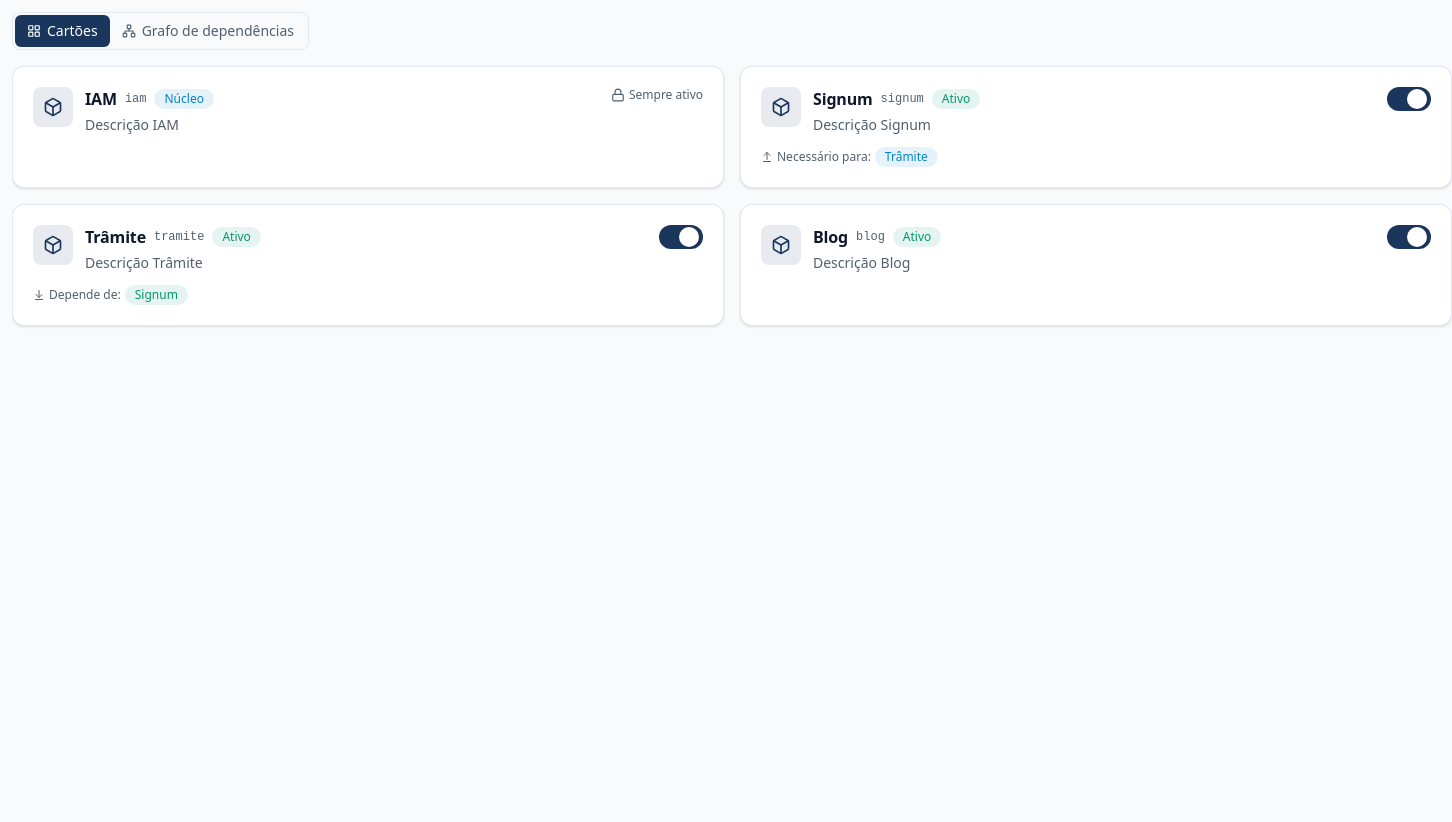
Scenario: Configurações > Módulos › erro 409 do backend vira aviso e a lista é recarregada
Click the switch named "Desativar Blog". click: (1409, 237)
box: [1387, 225, 1431, 249]
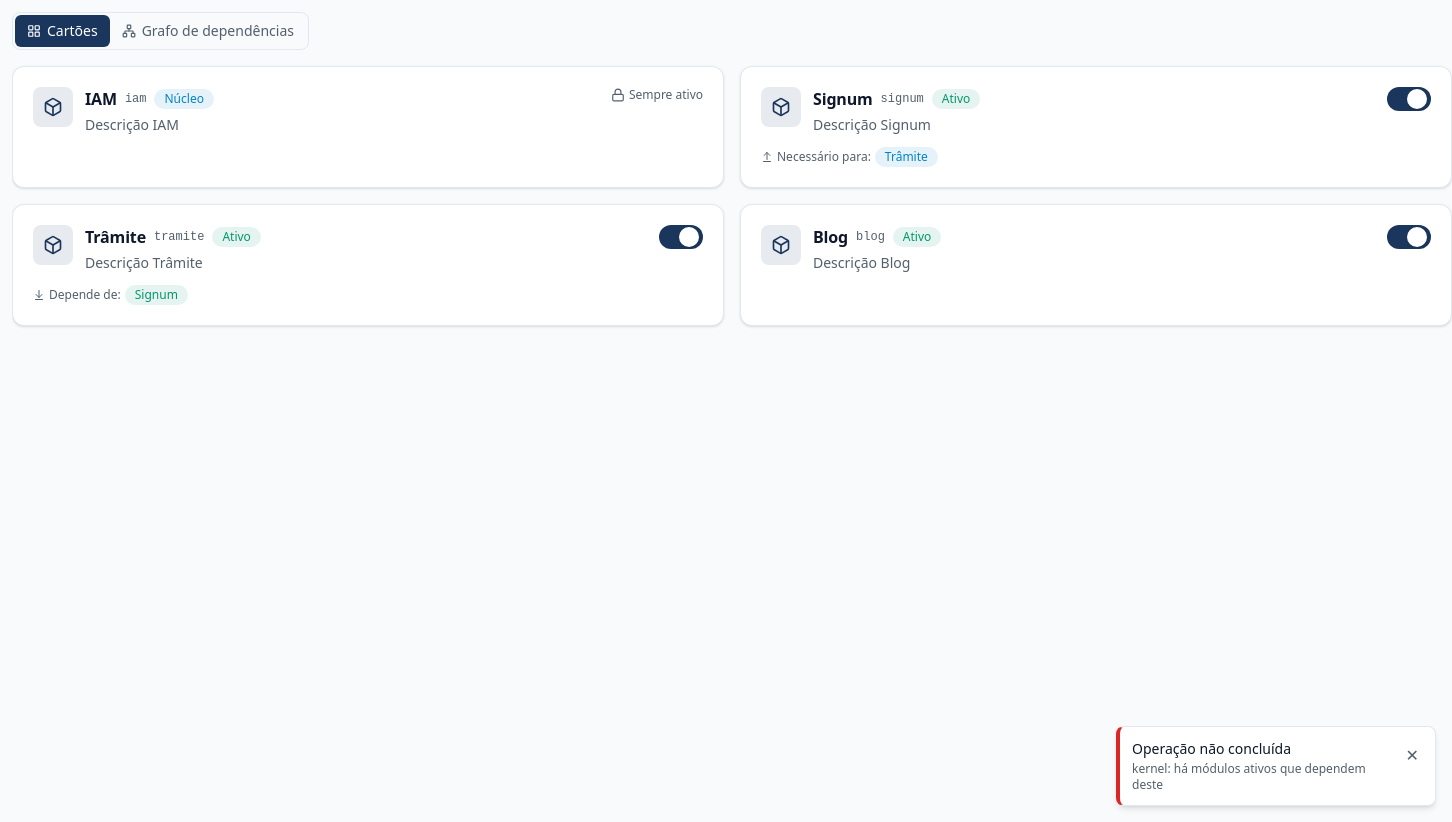
expect the text "kernel: há módulos ativos que dependem deste" is shown: met, box [1132, 761, 1394, 793]
